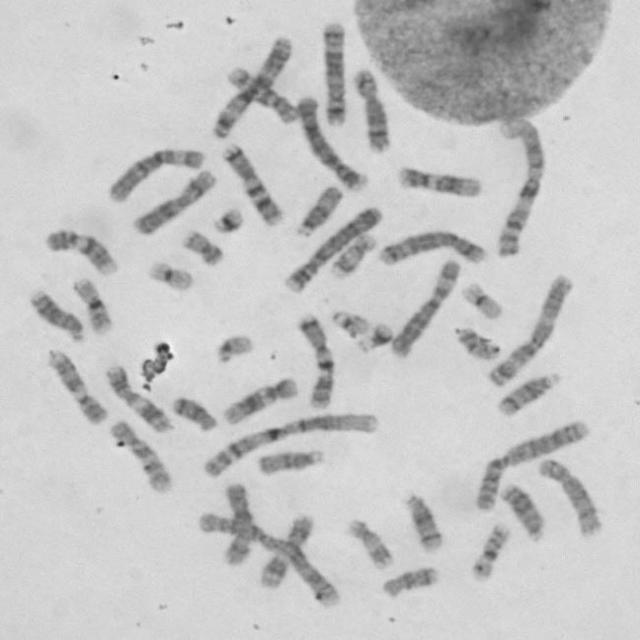A1: (200, 412, 380, 482), (493, 118, 548, 263)
A2: (196, 511, 344, 611), (471, 420, 593, 514)
A3: (487, 274, 577, 389), (212, 35, 294, 139)
B4: (281, 206, 384, 296), (294, 96, 372, 190)
B5: (376, 229, 490, 265), (321, 21, 348, 126)
C10: (108, 419, 174, 496), (224, 67, 299, 127)
C11: (105, 363, 173, 432), (259, 513, 318, 591)
C12: (222, 376, 299, 426), (395, 163, 483, 200)
C6: (392, 258, 461, 358), (108, 148, 206, 204)
C7: (222, 143, 284, 227), (294, 313, 336, 409)
C8: (538, 457, 602, 536), (350, 69, 392, 152)
C9: (46, 348, 108, 425), (42, 229, 120, 279)
D13: (29, 288, 86, 344), (501, 484, 546, 540)
D14: (497, 372, 566, 418), (403, 491, 445, 552)
D15: (296, 184, 346, 238), (257, 448, 326, 478)
E16: (71, 276, 114, 334), (470, 522, 510, 582)
E17: (346, 516, 395, 570), (330, 233, 378, 280)
E18: (380, 565, 440, 598), (171, 395, 218, 433)
F19: (460, 280, 507, 321), (150, 258, 195, 293)
F20: (457, 326, 502, 360), (183, 230, 225, 266)
G21: (357, 321, 394, 355), (211, 206, 244, 235)
G22: (215, 334, 257, 362), (329, 309, 370, 336)
X: (130, 167, 218, 238), (220, 484, 254, 566)
